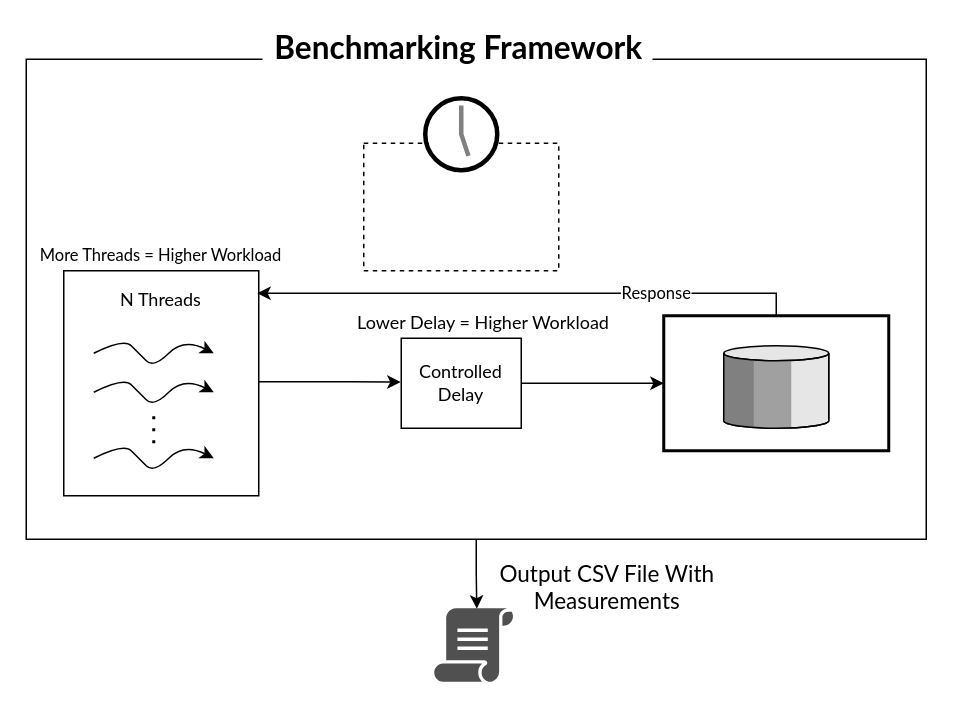
Image size: 953x707. Some labels were removed from this diagram. Here are the shapes that lost their labels. From the top down, the centre of each, then its label:
the point at 460,206: Time Millions of Queue Operations
the point at 776,383: Queue in Shared-Memory
